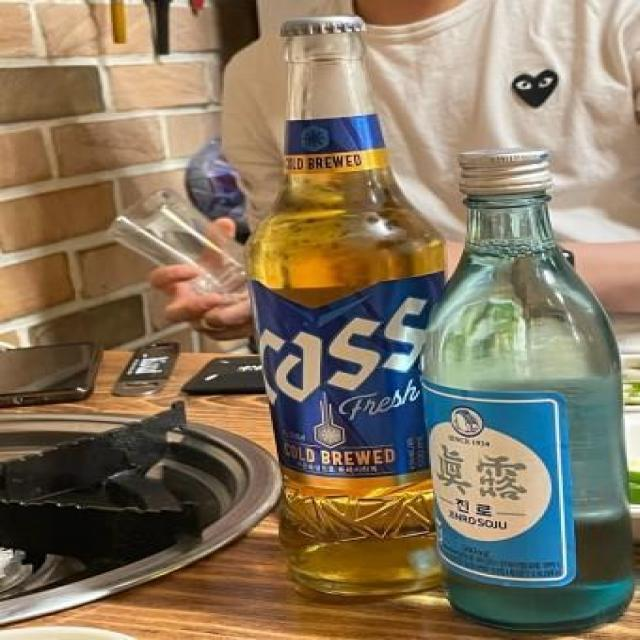beer-bottle: (234, 14, 468, 599)
soju-bottle: (415, 147, 637, 639)
